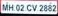character: (26, 3, 32, 12), (2, 3, 8, 11), (31, 3, 37, 11), (52, 4, 58, 12), (8, 3, 13, 11), (47, 4, 52, 12), (20, 3, 24, 12), (44, 3, 48, 12), (15, 4, 20, 11), (39, 4, 43, 11)
